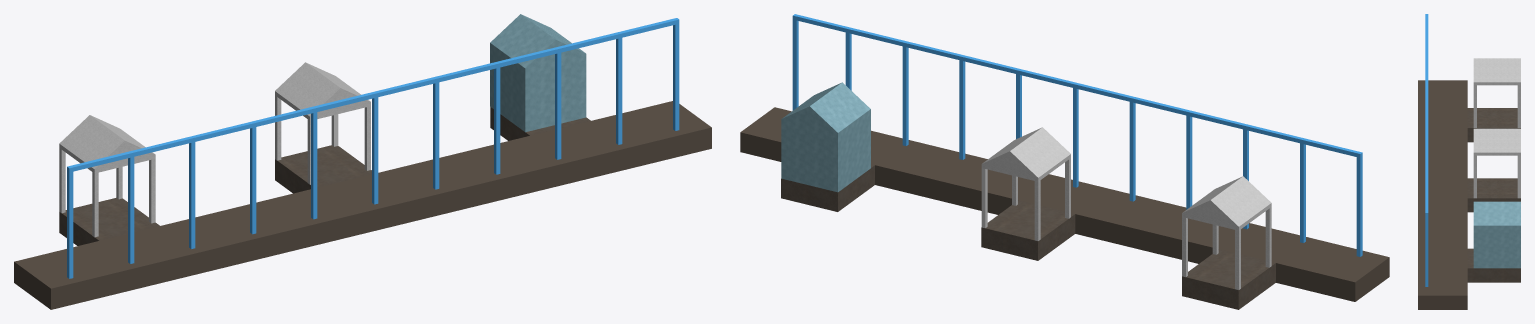
Rendered from Water_Intake.glb.
The picture shows the model from 3 angles, left to right: view 1: azimuth 30°, elevation 25°; view 2: azimuth 150°, elevation 25°; view 3: azimuth 270°, elevation 25°; orthographic projection. The views are drawn at different scales.
Visible parts, largest first — view 1: Floor1; view 2: Floor1; view 3: Floor1.
Part boxes in pixels (x1,y1,x2,y2): Floor1: (14,14,711,309); Floor1: (740,14,1389,309); Floor1: (1418,14,1520,309).
Bounding box in the file's own units: 32.5 × 6.2 × 6.55.
Materials: 4 (4 with a texture image).
